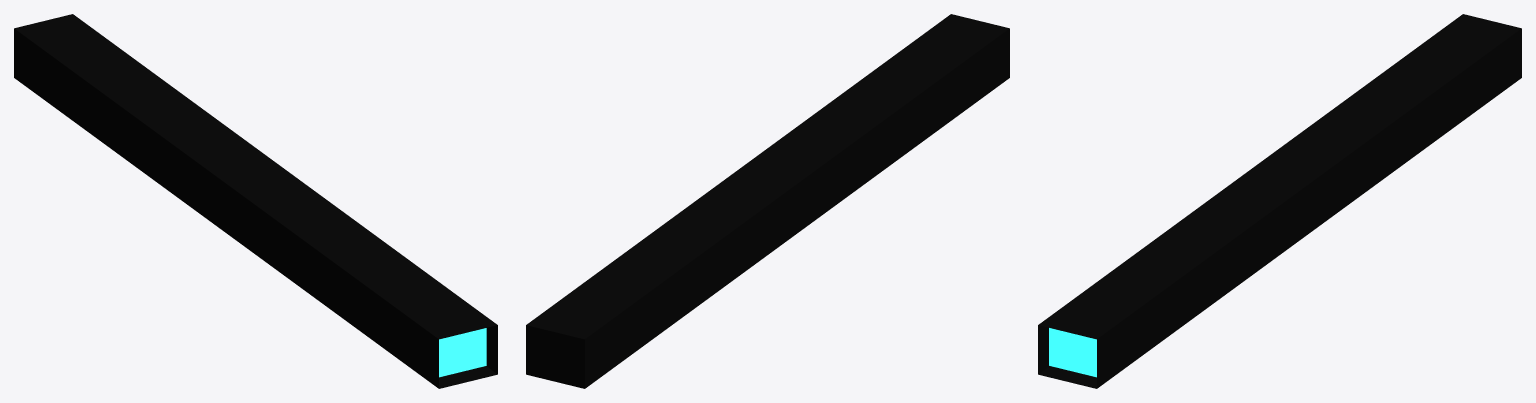
File: Escenario.FBX
3 renders of one model, left to right at view 1: azimuth 30°, elevation 25°; view 2: azimuth 150°, elevation 25°; view 3: azimuth 330°, elevation 25°, orthographic.
Parts seen in each view (by area): view 1: fondo negro, wireframe; view 2: fondo negro; view 3: fondo negro, wireframe.
Boxes of the visible parts, left/top/right/bottom form: fondo negro: left=14, top=14, right=497, bottom=388; wireframe: left=439, top=328, right=486, bottom=377; fondo negro: left=526, top=14, right=1009, bottom=388; fondo negro: left=1038, top=14, right=1521, bottom=388; wireframe: left=1049, top=328, right=1096, bottom=377.
Size of the model in its own units: 6.84 by 5.5 by 85.57.
